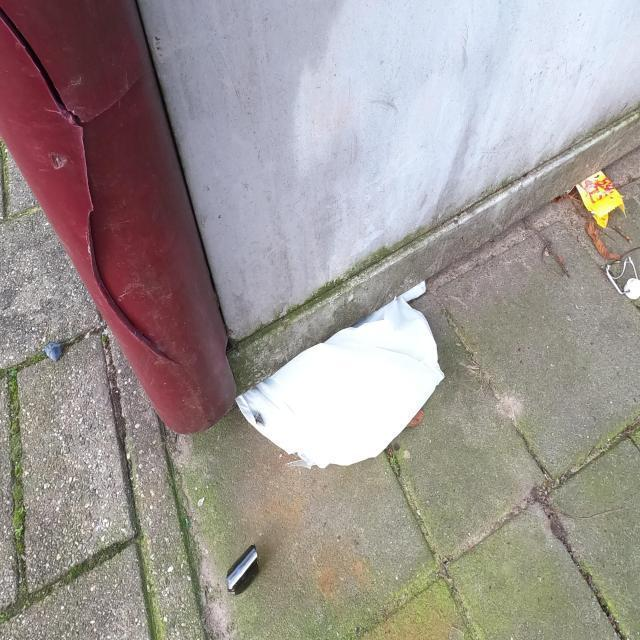Plastic: (575, 170, 627, 229)
